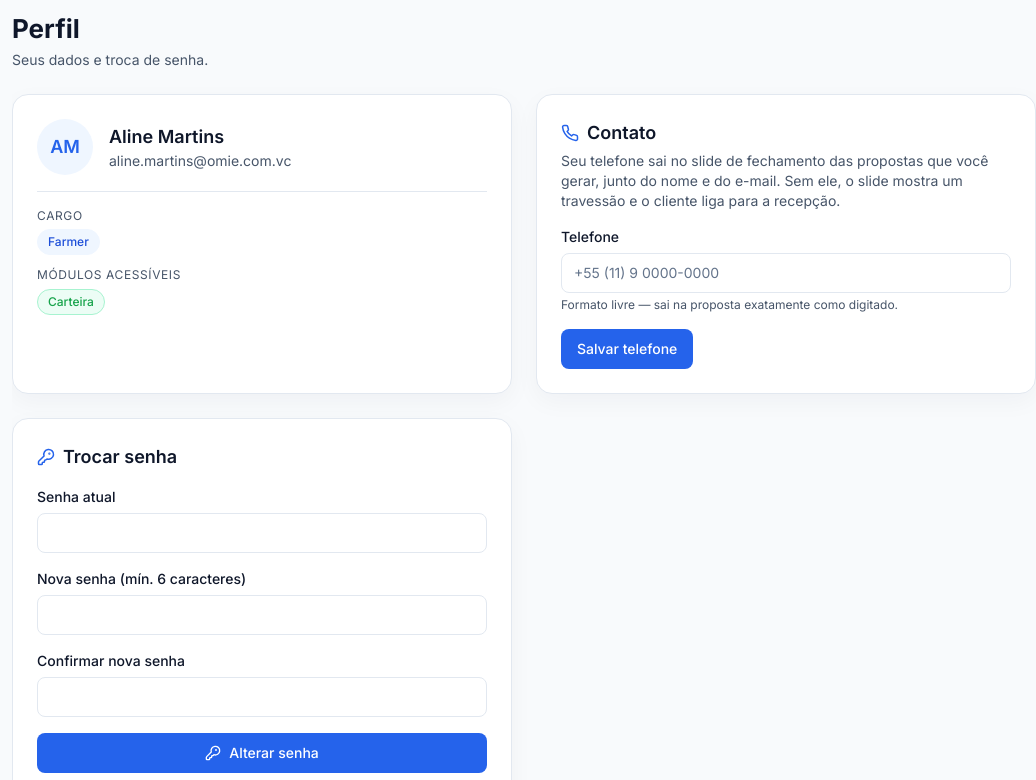
Scenario: Página Perfil › valida que nova senha tem pelo menos 6 caracteres
Step 1. Type "123456" into the password field labelled "Senha atual" → (262, 533), box [37, 513, 487, 553]
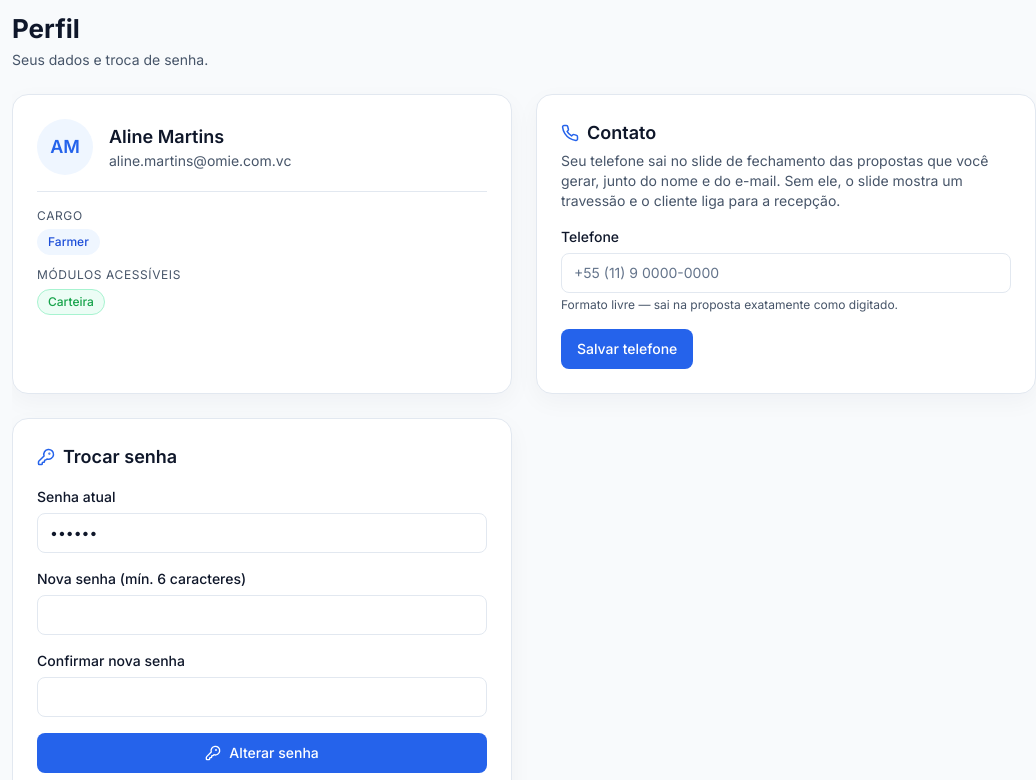
Step 2. Type "abc" into the password field labelled "Nova senha (mín. 6 caracteres)" → (262, 615), box [37, 595, 487, 635]
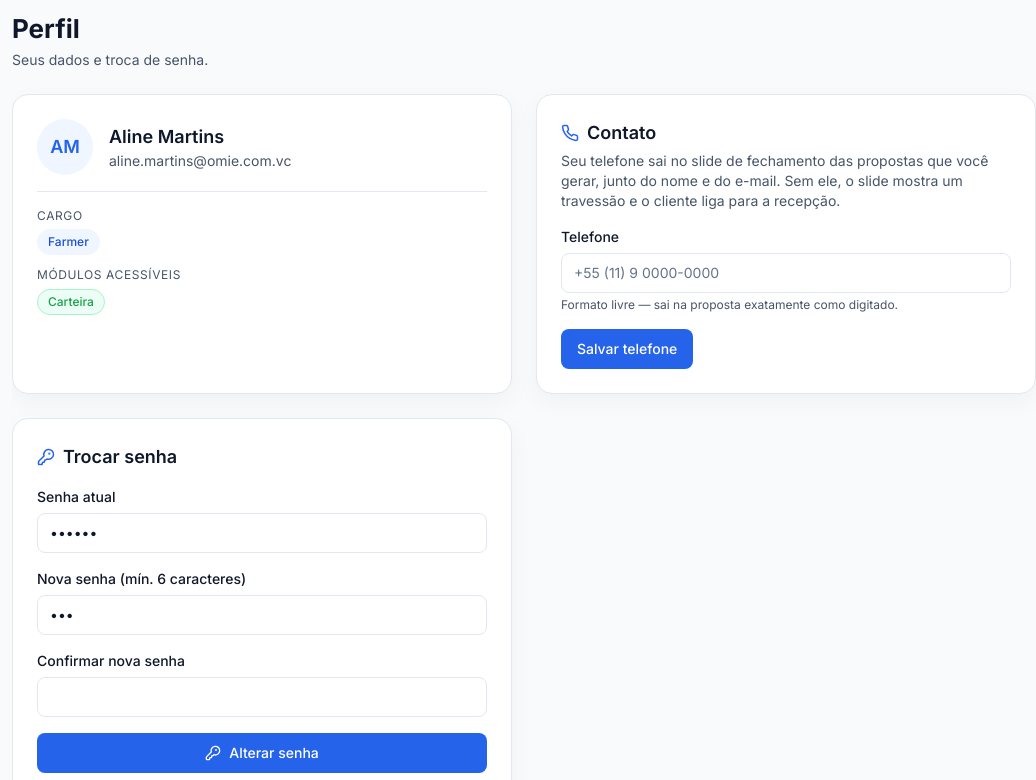
Step 3. Type "abc" into the password field labelled "Confirmar nova senha" → (262, 697), box [37, 677, 487, 717]
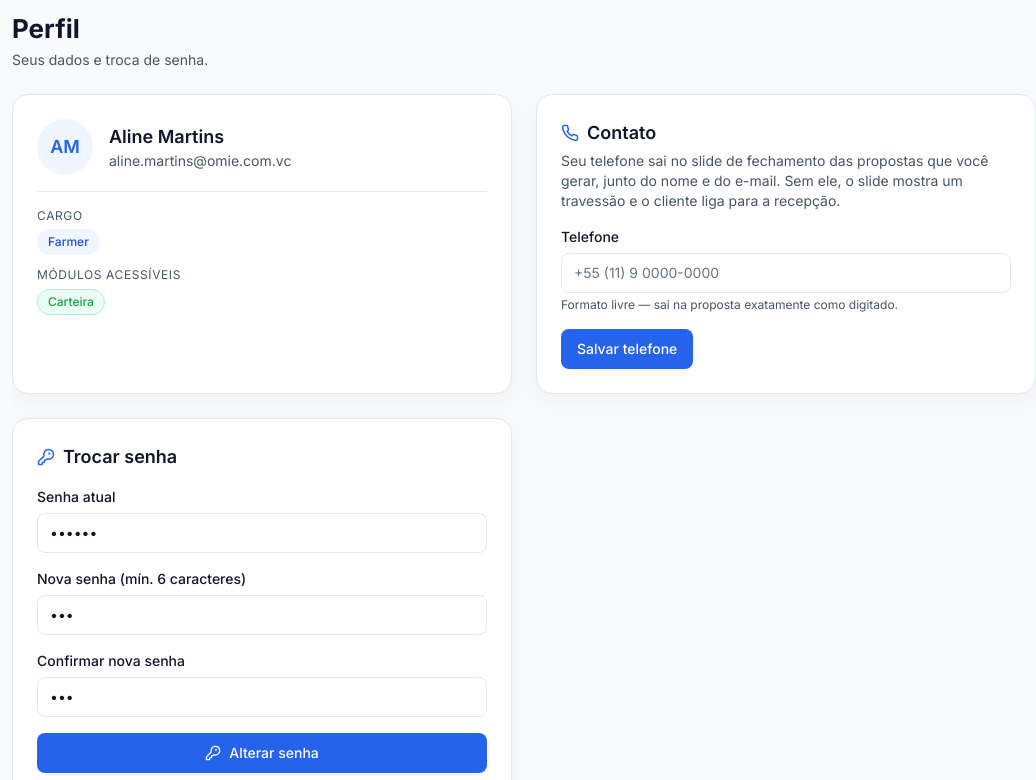
Step 4. Click the button "Alterar senha" → (262, 753), box [37, 733, 487, 773]
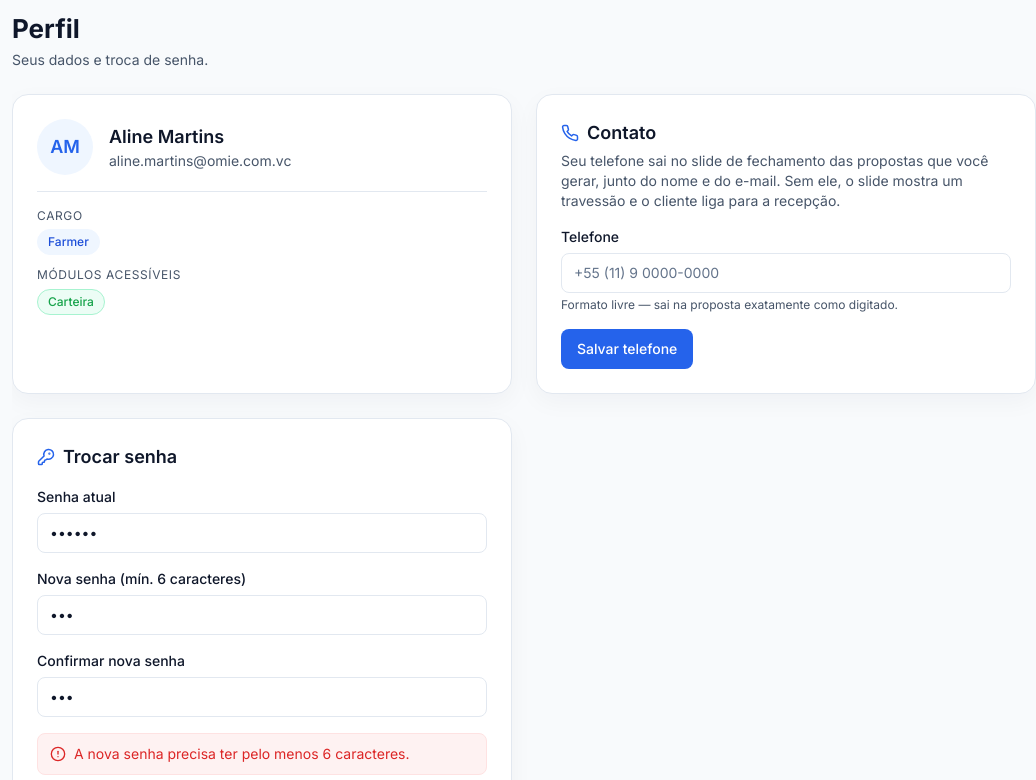
Now the text "A nova senha precisa ter pelo menos 6 caracteres." is shown, box [74, 744, 410, 764]
